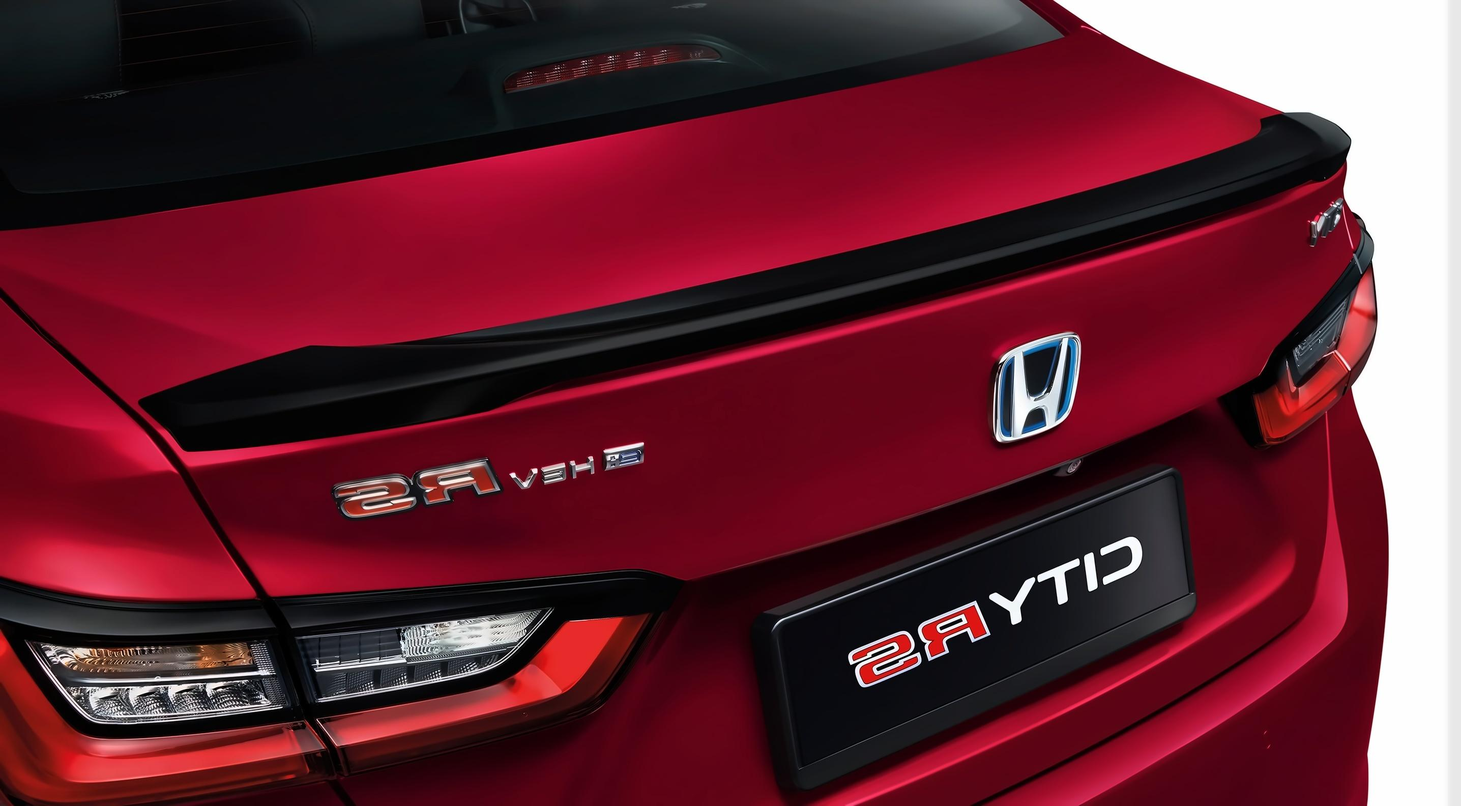Car boot: (0, 17, 1359, 806)
Rear bumper: (960, 391, 1406, 806)
Rear light - -L-: (0, 560, 712, 806)
Rear light - -R-: (1226, 217, 1402, 465)
